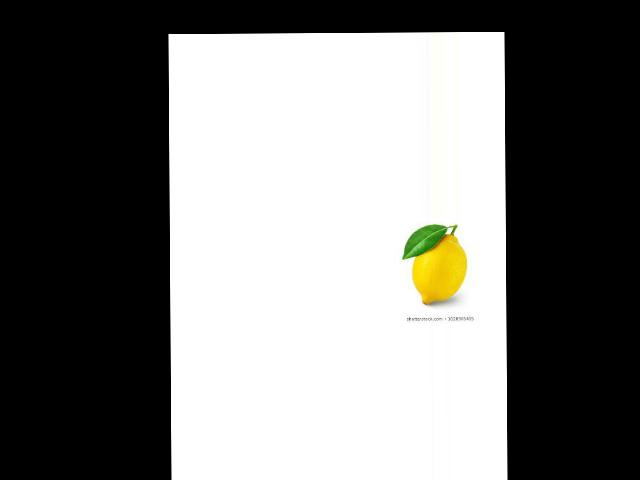lemon: (409, 231, 468, 307)
